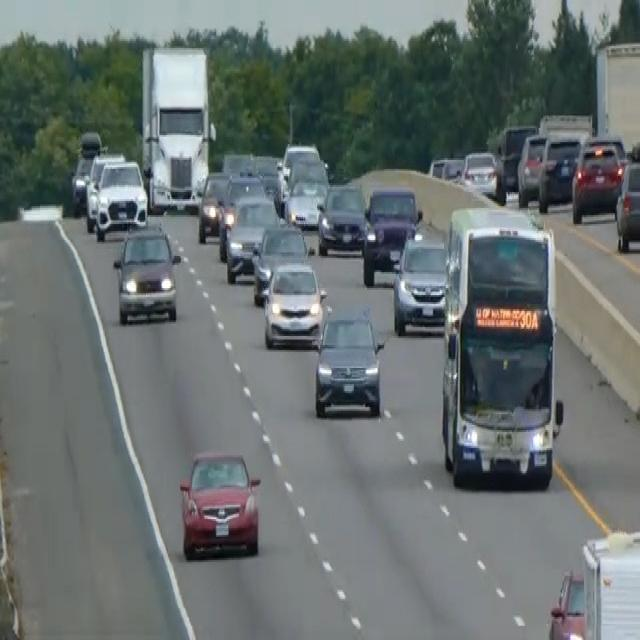bus: (438, 202, 564, 490)
car: (178, 448, 261, 558), (313, 308, 384, 418), (112, 222, 181, 326), (392, 220, 448, 336), (362, 183, 421, 285), (262, 258, 326, 348), (224, 192, 279, 283), (250, 220, 308, 304), (570, 137, 624, 224), (94, 156, 148, 240), (217, 169, 265, 259), (316, 180, 367, 256), (537, 128, 583, 212), (83, 149, 125, 231), (283, 158, 329, 230), (70, 128, 102, 215), (497, 123, 537, 192), (547, 567, 585, 638), (196, 169, 229, 242), (614, 156, 639, 252), (516, 132, 546, 206), (461, 148, 501, 199), (280, 140, 320, 190), (253, 153, 282, 210), (428, 155, 463, 183), (221, 149, 254, 176), (78, 128, 102, 158)
lorry: (139, 42, 216, 212)
truck: (581, 526, 639, 638)
